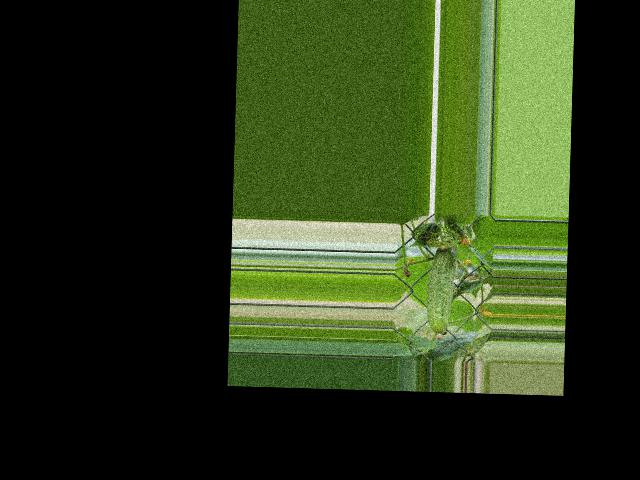cucumber: (426, 240, 456, 339)
